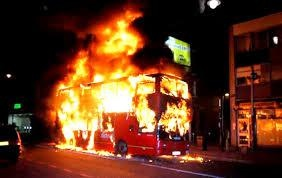fire: (46, 4, 196, 153)
